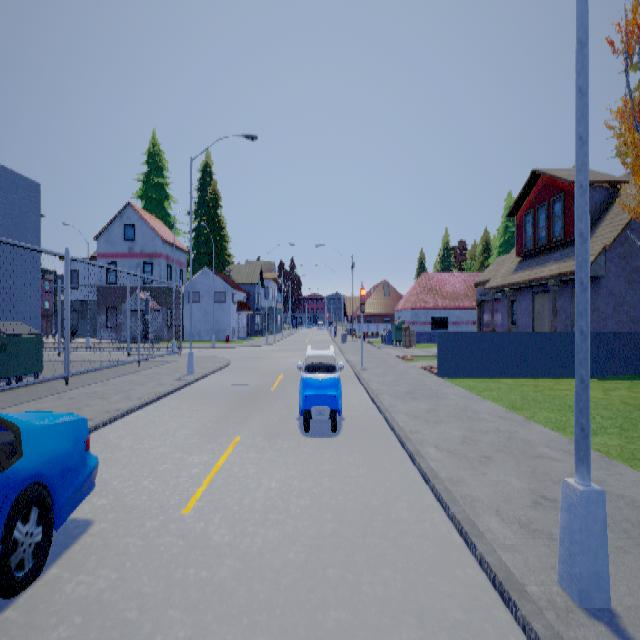red_light: (359, 281, 364, 315)
vehicle: (0, 409, 98, 598), (296, 359, 343, 431)
